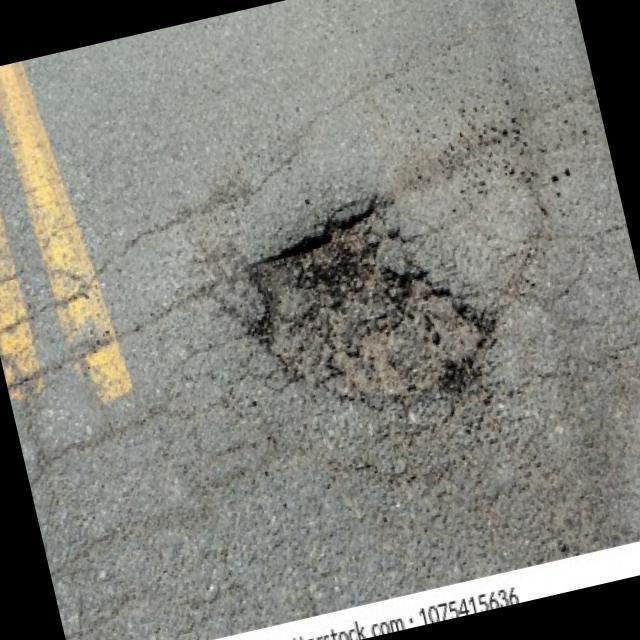Pothole: (217, 172, 507, 456)
